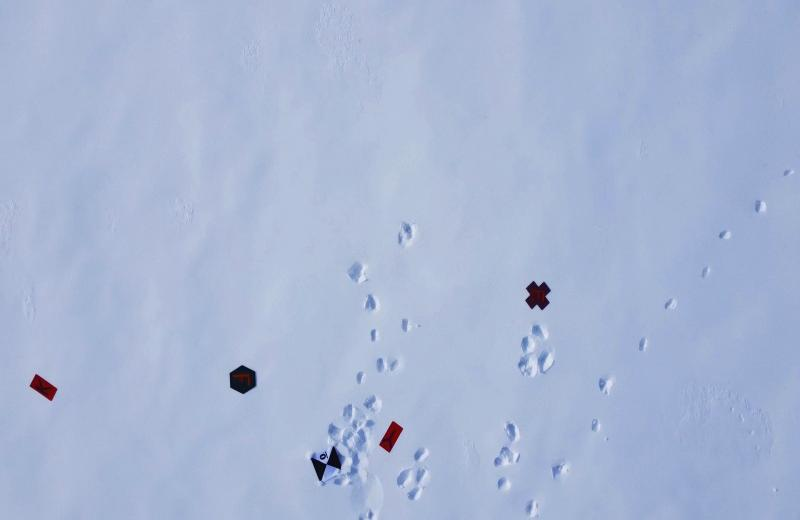Cross: (522, 276, 552, 313)
Hexagon: (226, 359, 260, 401)
Rectangle: (26, 370, 60, 406), (376, 417, 406, 454)
